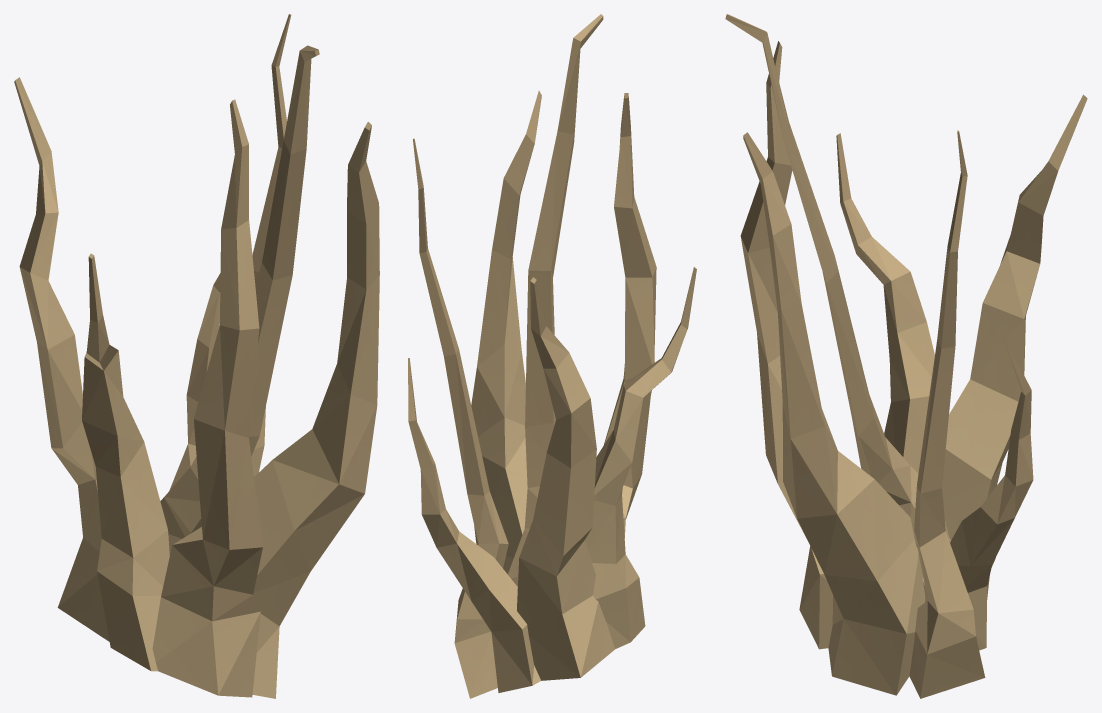
File: grass_brown_2.obj
3 renders of one model, left to right at view 1: azimuth 30°, elevation 25°; view 2: azimuth 150°, elevation 25°; view 3: azimuth 270°, elevation 25°, orthographic. The views are drawn at different scales.
Visible parts, largest first — view 1: grass_brown_2_Mesh; view 2: grass_brown_2_Mesh; view 3: grass_brown_2_Mesh.
Part boxes in pixels (x1=…): grass_brown_2_Mesh: x1=14, y1=14, x2=379, y2=698; grass_brown_2_Mesh: x1=408, y1=14, x2=696, y2=698; grass_brown_2_Mesh: x1=725, y1=14, x2=1087, y2=698.
Bounding box in the file's own units: 0.271 × 0.68 × 0.3348.
